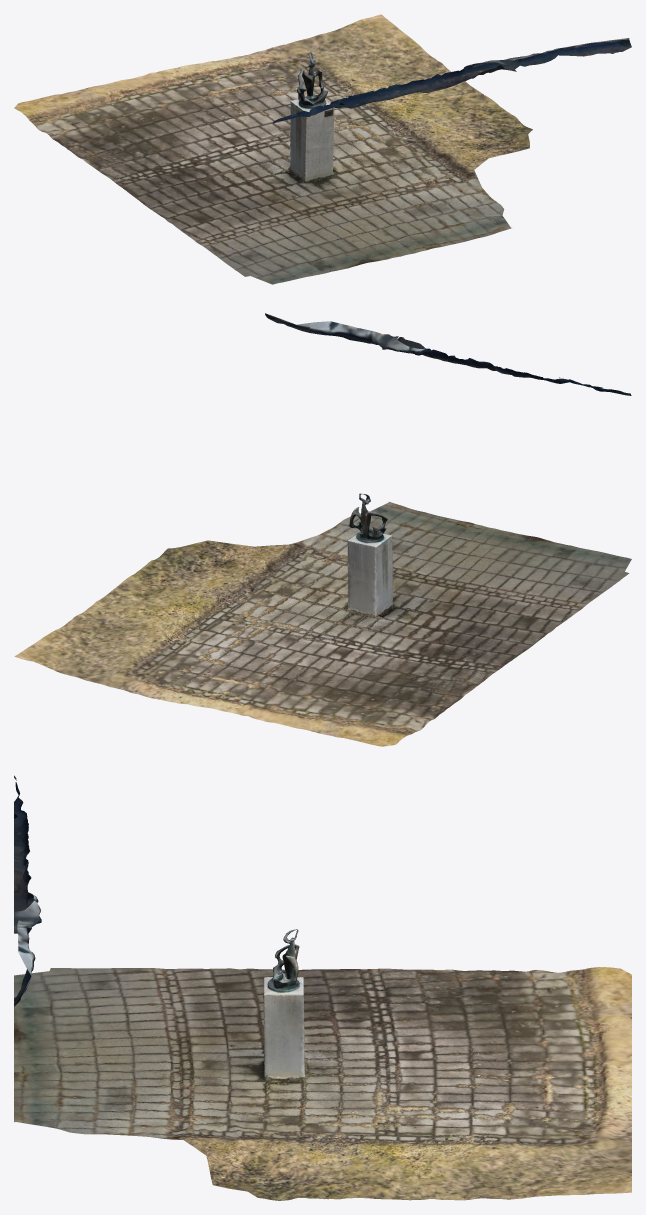
Rendered from sorcerer.obj.
The picture shows the model from 3 angles, top to bottom: view 1: azimuth 30°, elevation 25°; view 2: azimuth 150°, elevation 25°; view 3: azimuth 270°, elevation 25°; orthographic projection. The views are drawn at different scales.
Parts seen in each view (by area): view 1: Object; view 2: Object; view 3: Object.
Part boxes in pixels (<box>): Object: <box>14,14,631,284</box>; Object: <box>14,313,631,746</box>; Object: <box>14,775,631,1200</box>.
Bounding box in the file's own units: 5.74 × 2.56 × 6.7.
